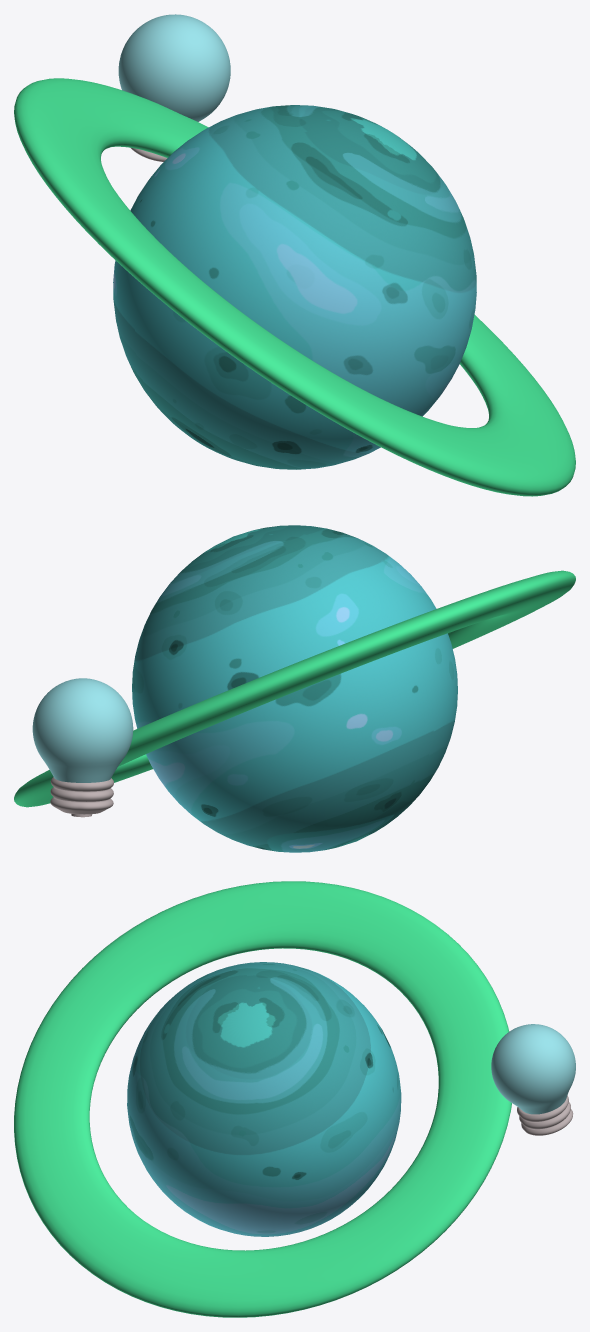
The picture shows the model from 3 angles, top to bottom: view 1: azimuth 30°, elevation 25°; view 2: azimuth 150°, elevation 25°; view 3: azimuth 270°, elevation 25°; orthographic projection. The views are drawn at different scales.
Visible parts, largest first — view 1: Sphere, Torus, Sphere.001; view 2: Sphere, Torus, Sphere.001; view 3: Torus, Sphere, Sphere.001.
Part boxes in pixels (x1,y1,x2,y2): Sphere: (113,105,476,469); Torus: (14,78,575,496); Sphere.001: (118,14,230,161); Sphere: (132,525,457,852); Torus: (14,570,575,807); Sphere.001: (32,678,133,817); Torus: (14,881,511,1317); Sphere: (127,962,401,1236); Sphere.001: (491,1024,575,1135).
Size of what is drawn, in the model's own units: 1.43 by 0.9779 by 1.87.
Materials: 5 (1 with a texture image).
